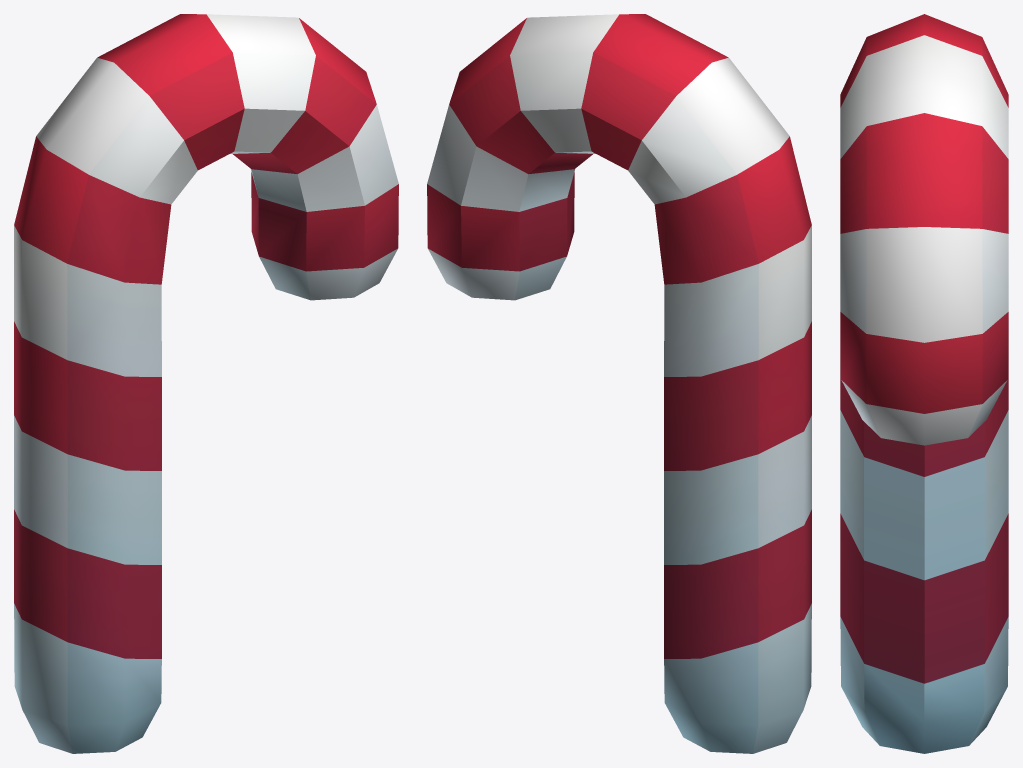
The model's file is polkagris.glb.
3 views of the same model, side by side, from view 1: azimuth 30°, elevation 25°; view 2: azimuth 150°, elevation 25°; view 3: azimuth 270°, elevation 25° (orthographic). The views are drawn at different scales.
Parts seen in each view (by area): view 1: candycane_small; view 2: candycane_small; view 3: candycane_small.
Part boxes in pixels (x1,y1,x2,y2): candycane_small: (14,14,398,753); candycane_small: (427,14,811,753); candycane_small: (840,14,1008,753).
Size of the model in its own units: 0.3199 by 0.5843 by 0.1149.
Materials: 1 (1 with a texture image).
